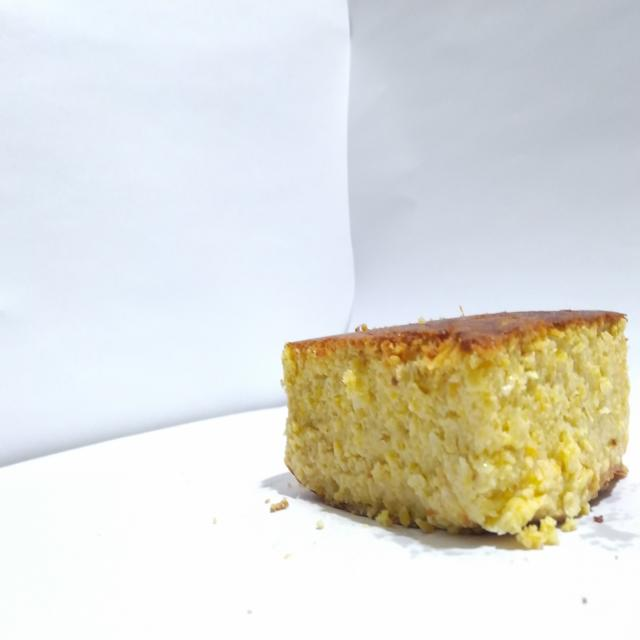Food: (268, 284, 634, 554)
